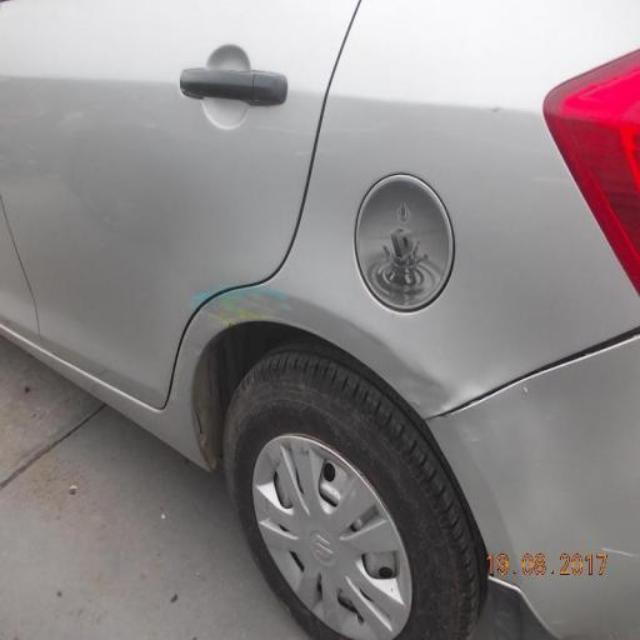dislocated part: (381, 326, 640, 423)
scratch: (189, 284, 305, 326)
